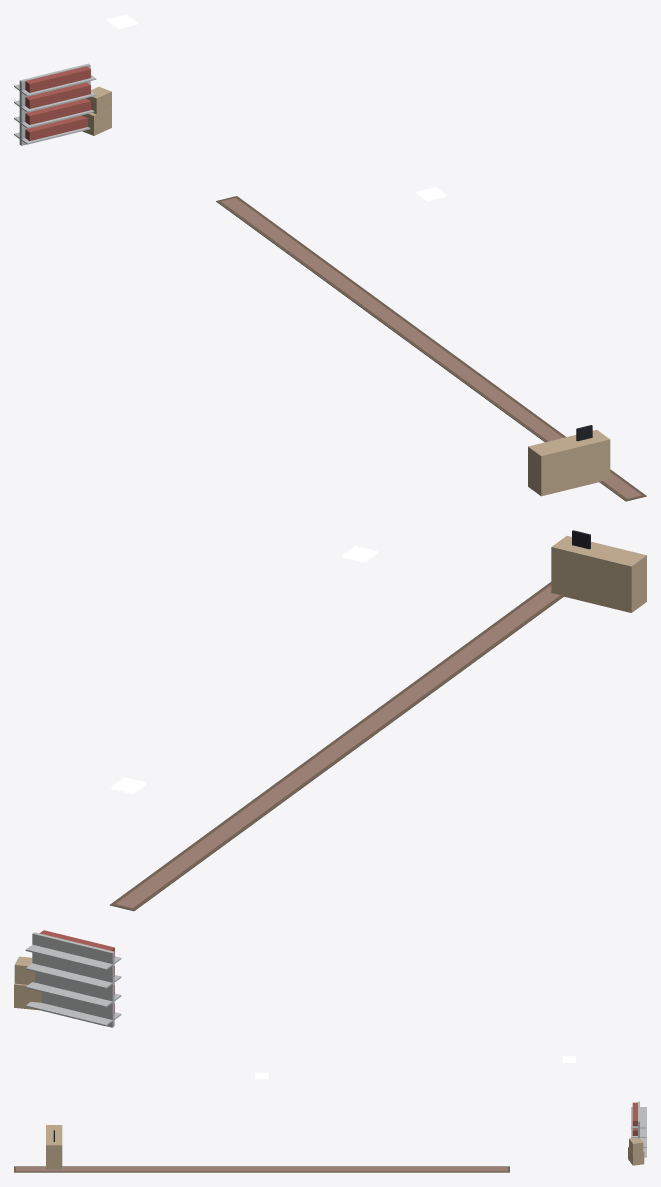
The model's file is fine-s0.glb.
3 renders of one model, top to bottom at view 1: azimuth 30°, elevation 25°; view 2: azimuth 150°, elevation 25°; view 3: azimuth 270°, elevation 25°, orthographic. The views are drawn at different scales.
Visible parts, largest first — view 1: soft-s0, shelving.000, shop-counter.000, cardboard-box.000; view 2: soft-s0, shelving.000, shop-counter.000, cardboard-box.000; view 3: soft-s0, shop-counter.000, shelving.000, cardboard-box.000.
Boxes of the visible parts, x1=… form: soft-s0: x1=216, y1=196, x2=646, y2=501; shelving.000: x1=14, y1=63, x2=96, y2=145; shop-counter.000: x1=528, y1=425, x2=610, y2=496; cardboard-box.000: x1=82, y1=86, x2=111, y2=135; soft-s0: x1=110, y1=582, x2=563, y2=911; shelving.000: x1=25, y1=930, x2=121, y2=1027; shop-counter.000: x1=551, y1=530, x2=646, y2=612; cardboard-box.000: x1=14, y1=956, x2=41, y2=1010; soft-s0: x1=14, y1=1166, x2=509, y2=1172; shop-counter.000: x1=46, y1=1125, x2=62, y2=1169; shelving.000: x1=631, y1=1101, x2=646, y2=1157; cardboard-box.000: x1=628, y1=1138, x2=644, y2=1165.
Bounding box in the file's own units: 2.87 × 3.88 × 23.63.
